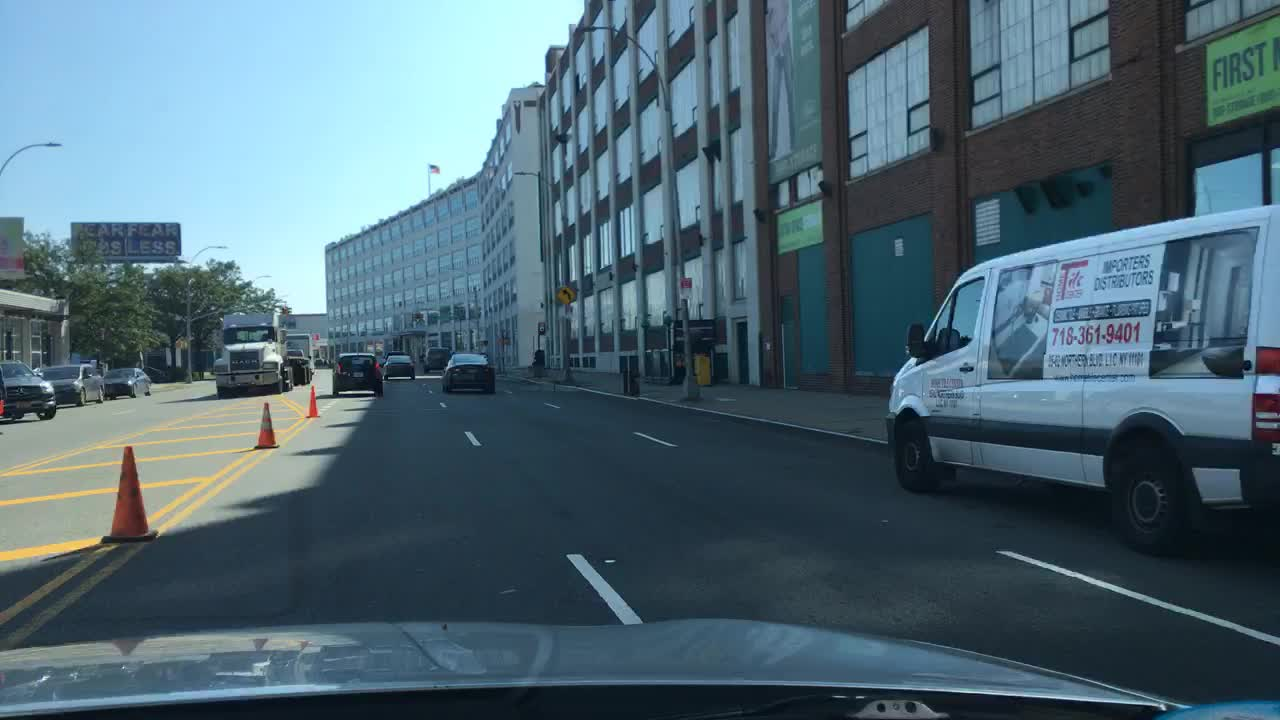car: (0, 356, 57, 422), (39, 361, 104, 408), (330, 353, 386, 400), (442, 351, 496, 396), (101, 368, 150, 400), (381, 353, 415, 383), (422, 346, 450, 371), (378, 349, 408, 361), (0, 380, 5, 415)
person: (668, 354, 685, 385)
traffic sign: (555, 280, 577, 305), (678, 275, 693, 300)
truck: (884, 202, 1279, 557), (209, 307, 295, 398), (283, 331, 314, 383)
